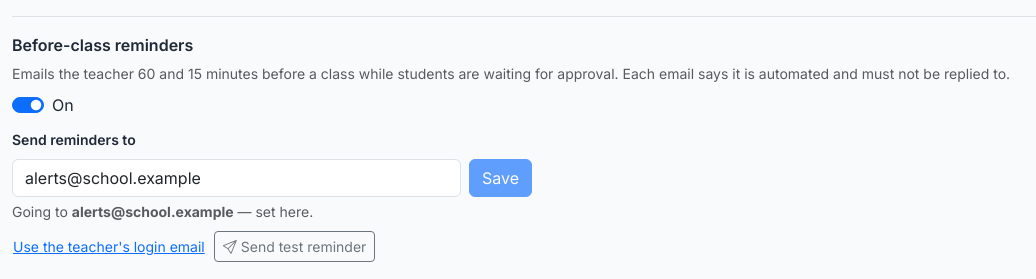
Test: before-class reminders card › reset to the teacher's login email (offered only when an address was set)
The width and height of the screenshot is (1036, 279).
Click the button "Use the teacher's login email": {"x": 109, "y": 247} 12,231 -> 206,262
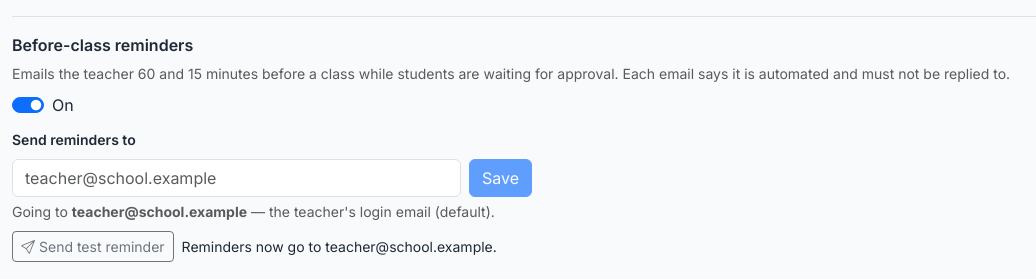
Expected: the element with test id "class-alert-destination" shows "teacher@school.example", 72,203 -> 247,220
Expected: the button "Use the teacher's login email" is gone
